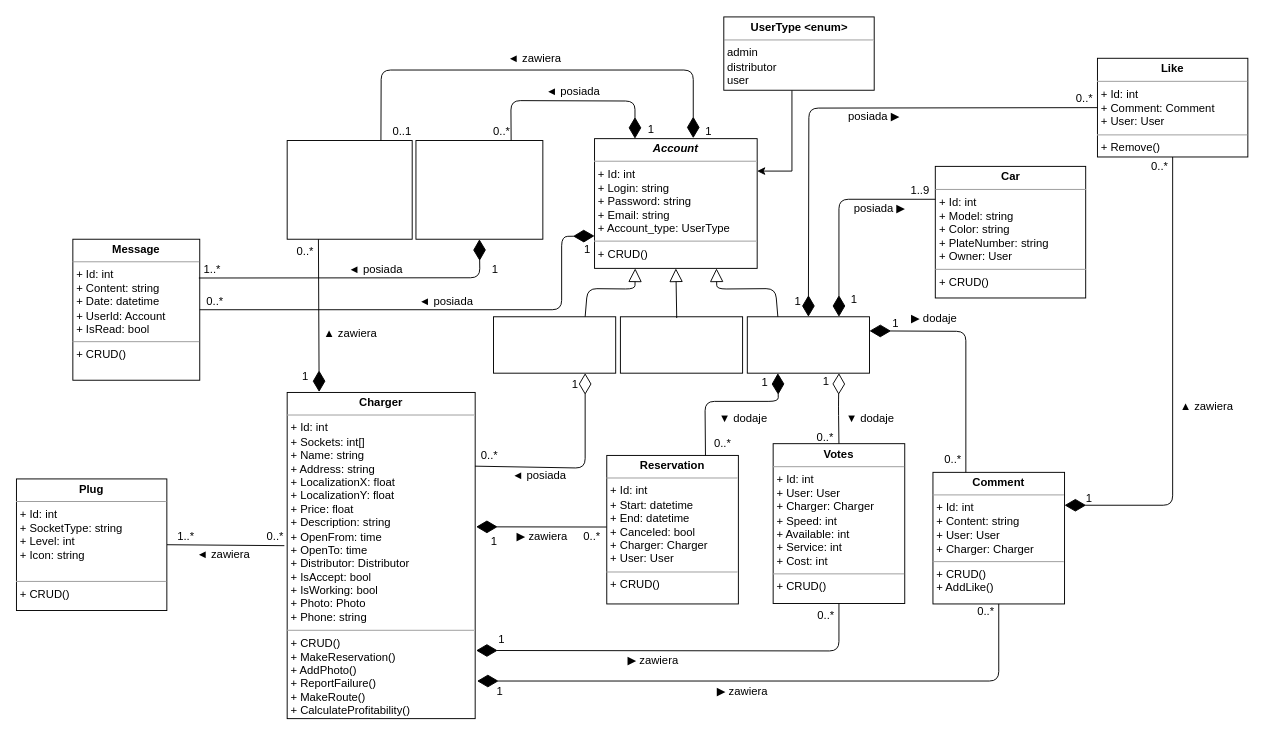
Some shapes in this 1264 by 735 pixel diagram are drawn without their labels. Each missing label, with the centre of its shape:
Admin + AcceptCharger(): the point at 681,344
Conversation + Id: int + Sender: Account + Receiver: Account + CRUD(): the point at 479,189
Distributor + AddCharger(): the point at 554,344
Photo + Id: int + Path: string + Date: datetime + Remove(): the point at 349,189
User + ReportCharger(): the point at 808,344
